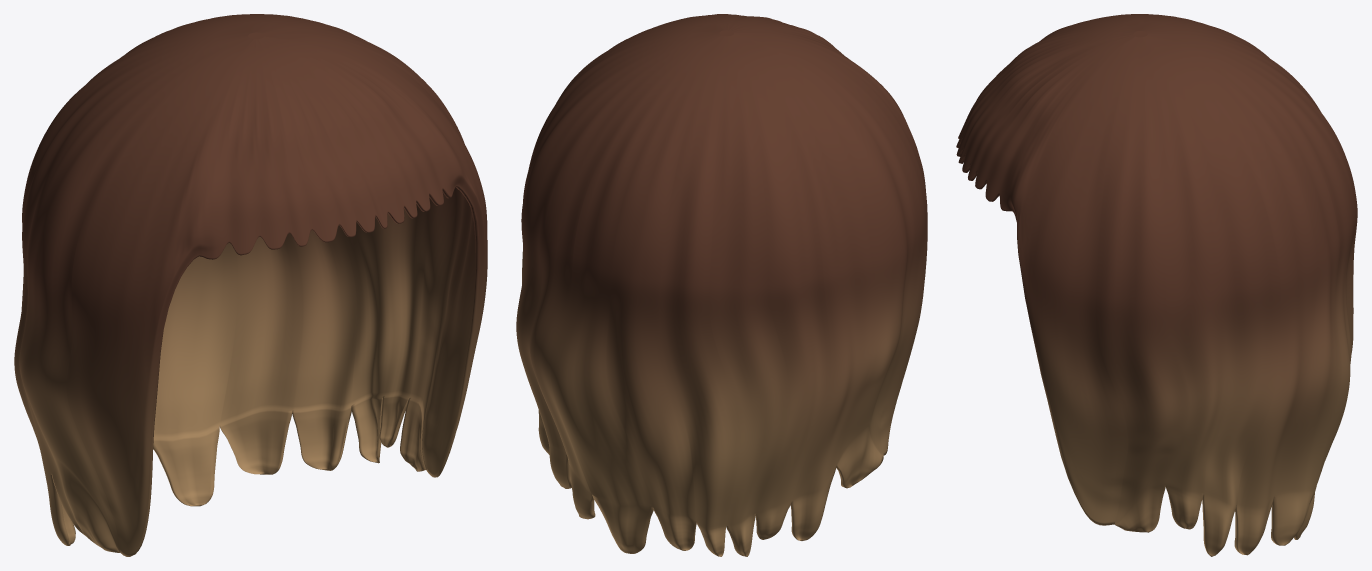
File: long-none-ombre.glb
3 renders of one model, left to right at view 1: azimuth 30°, elevation 25°; view 2: azimuth 150°, elevation 25°; view 3: azimuth 270°, elevation 25°, orthographic. The views are drawn at different scales.
Parts seen in each view (by area): view 1: Hair / rounded long fringe; view 2: Hair / rounded long fringe; view 3: Hair / rounded long fringe.
Part boxes in pixels (bbox=[...]): Hair / rounded long fringe: bbox=[14, 14, 487, 556]; Hair / rounded long fringe: bbox=[516, 14, 927, 556]; Hair / rounded long fringe: bbox=[956, 14, 1357, 556].
Bounding box in the file's own units: 0.8534 × 1.06 × 0.7801.
